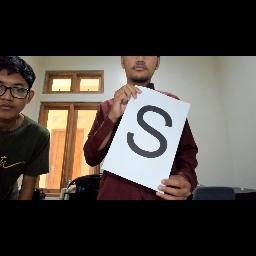s: (124, 102, 180, 168)
